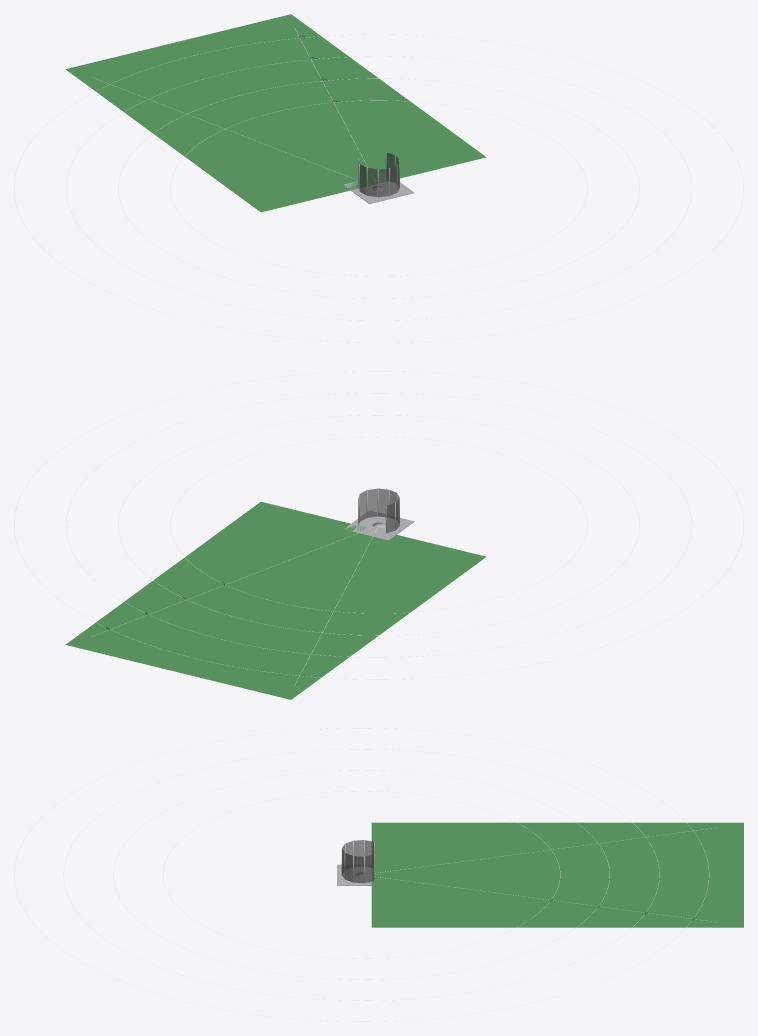
The model's file is Discus Setup.glb.
3 renders of one model, top to bottom at view 1: azimuth 30°, elevation 25°; view 2: azimuth 150°, elevation 25°; view 3: azimuth 270°, elevation 25°, orthographic. The views are drawn at different scales.
Visible parts, largest first — view 1: Disc_Landing_Field, Disc_Base_Pad, Disc_Arc_70m, Disc_Arc_60m; view 2: Disc_Landing_Field, Disc_Base_Pad, Disc_Arc_70m, Disc_Arc_60m; view 3: Disc_Landing_Field, Disc_Arc_70m, Disc_Base_Pad, Disc_Arc_60m.
Boxes of the visible parts, x1=… form: Disc_Landing_Field: x1=65, y1=14, x2=486, y2=212; Disc_Base_Pad: x1=343, y1=181, x2=414, y2=203; Disc_Arc_70m: x1=14, y1=34, x2=743, y2=342; Disc_Arc_60m: x1=66, y1=56, x2=691, y2=320; Disc_Landing_Field: x1=65, y1=501, x2=486, y2=699; Disc_Base_Pad: x1=344, y1=510, x2=414, y2=540; Disc_Arc_70m: x1=14, y1=371, x2=743, y2=679; Disc_Arc_60m: x1=66, y1=393, x2=691, y2=657; Disc_Landing_Field: x1=371, y1=822, x2=743, y2=927; Disc_Arc_70m: x1=14, y1=728, x2=709, y2=1021; Disc_Base_Pad: x1=337, y1=864, x2=371, y2=885; Disc_Arc_60m: x1=63, y1=749, x2=659, y2=1000.
Size of the model in its own units: 140 by 6.12 by 147.
